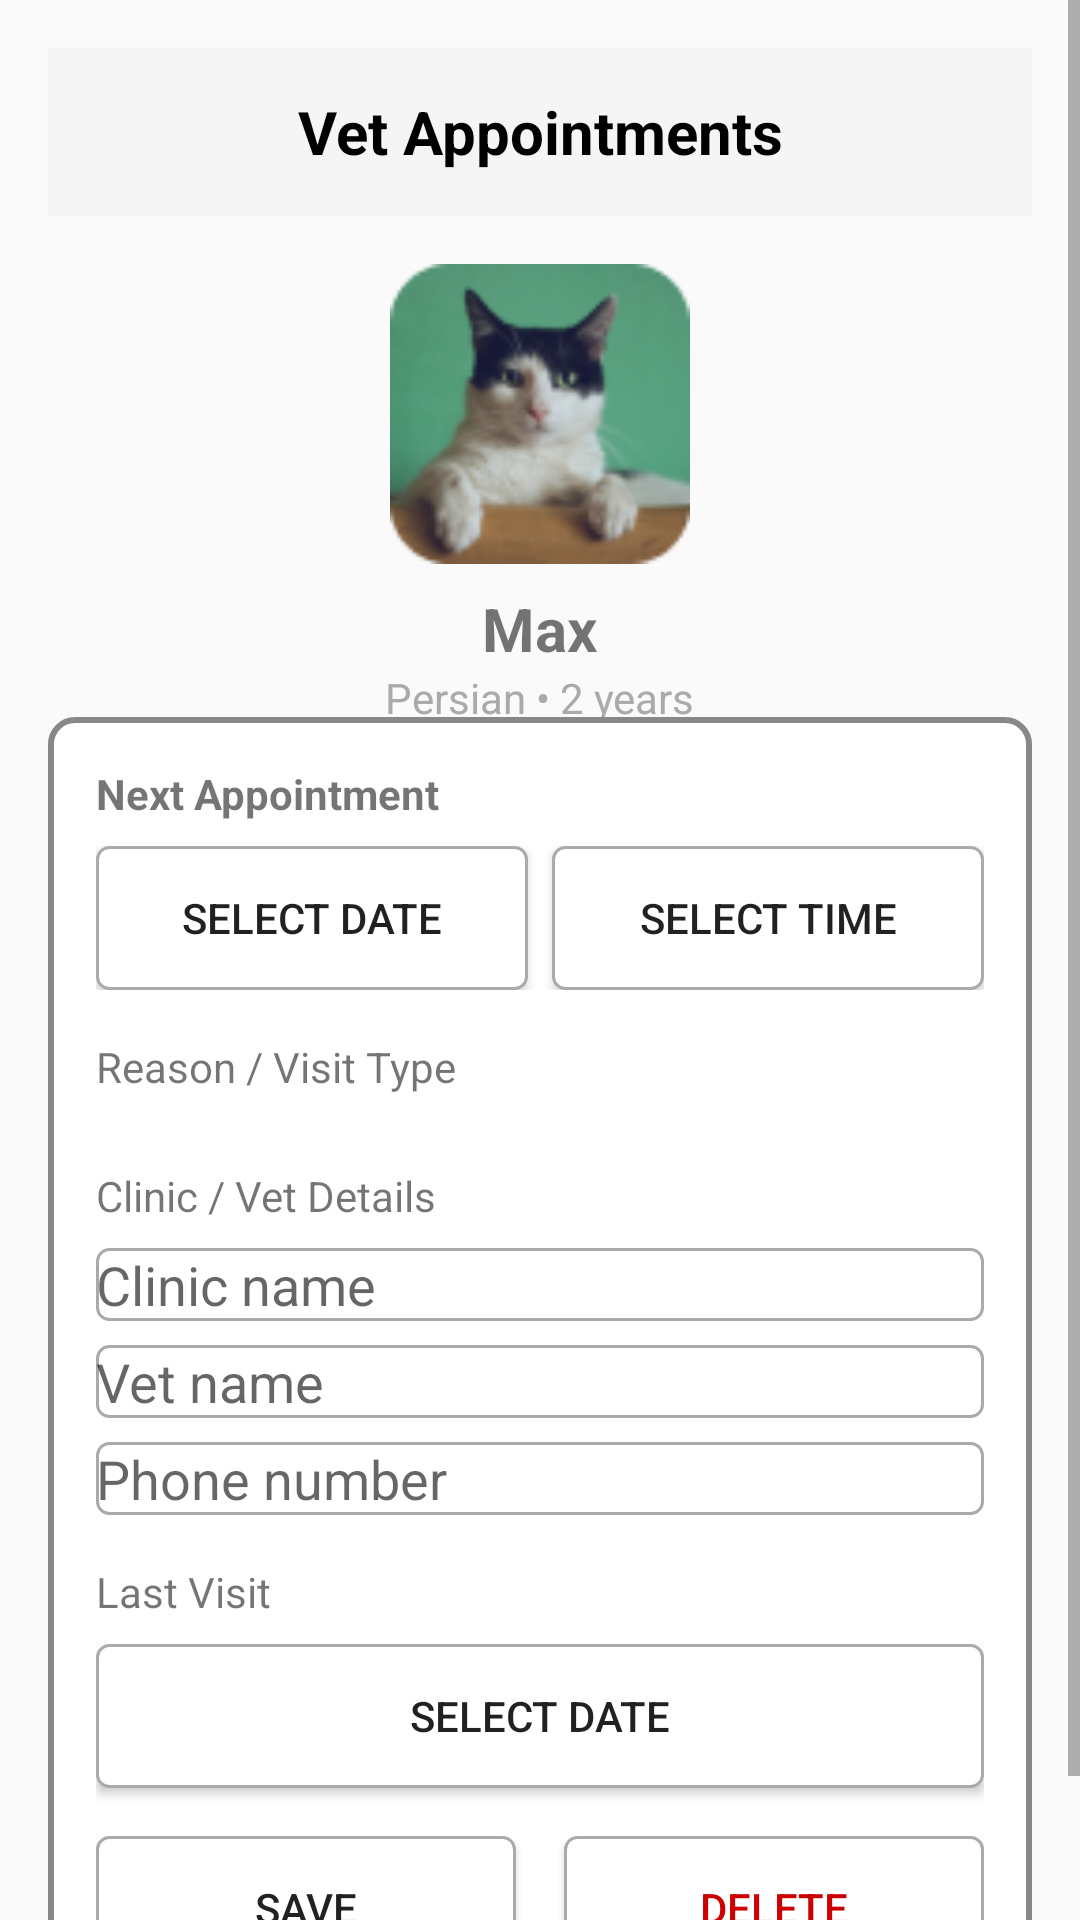

Screen size 1080*1920. Icon name, then its box in pixels as {"x1": x1, "y1": y1, "x2": x2, "y2": y2}:
Pet Image: {"x1": 390, "y1": 264, "x2": 690, "y2": 564}
